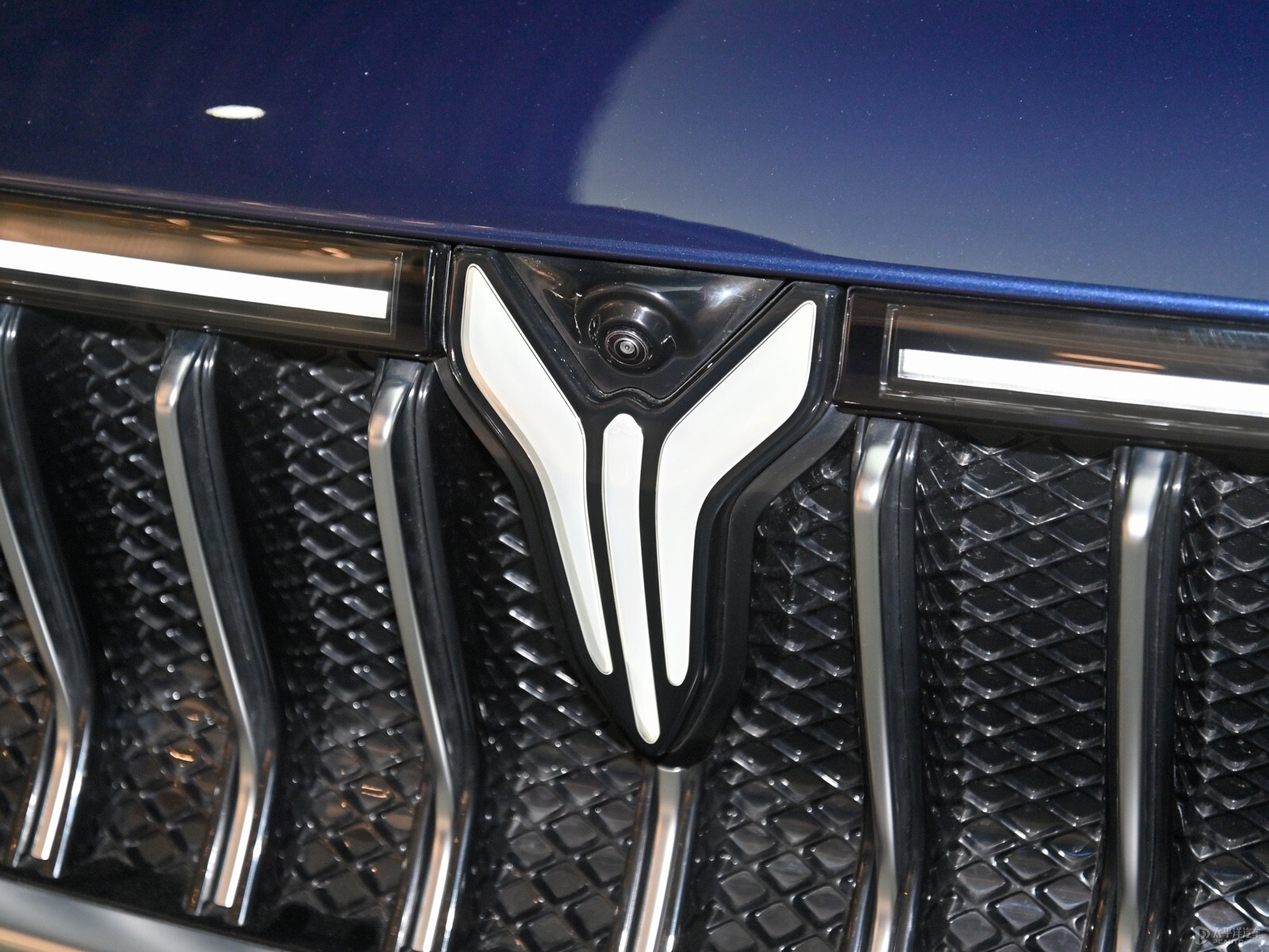VOYAH: (459, 263, 815, 743)
